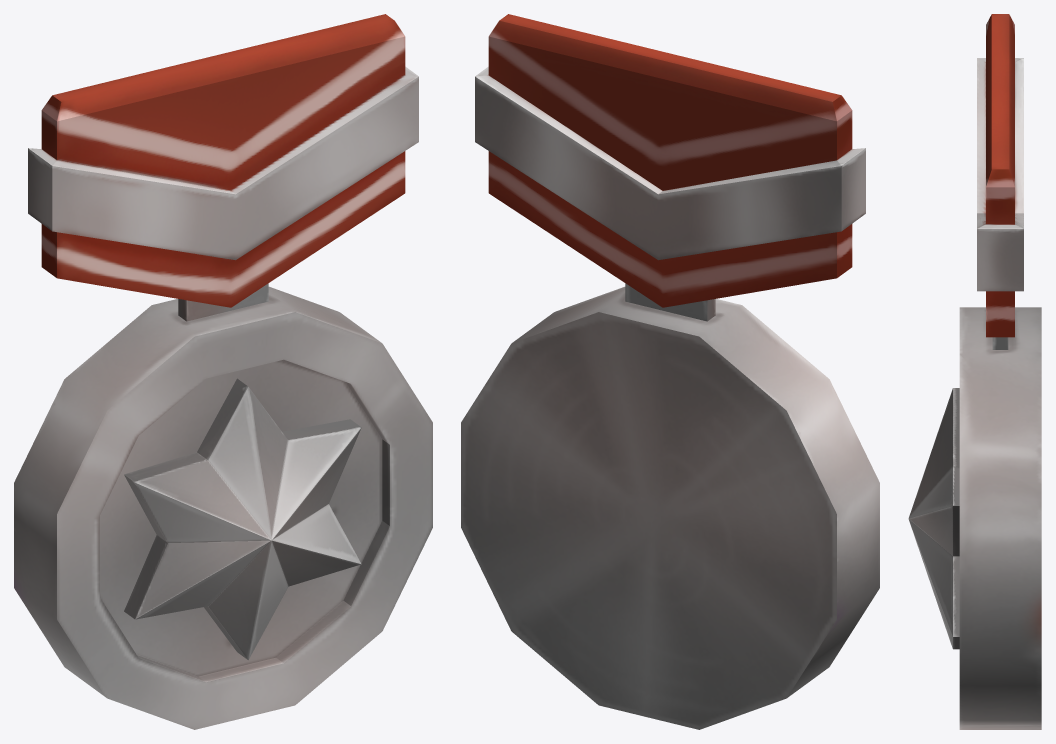
The model's file is 44_silver medal.FBX.
3 views of the same model, side by side, from view 1: azimuth 30°, elevation 25°; view 2: azimuth 150°, elevation 25°; view 3: azimuth 270°, elevation 25° (orthographic). The views are drawn at different scales.
Parts seen in each view (by area): view 1: 44_silver medal; view 2: 44_silver medal; view 3: 44_silver medal.
Boxes of the visible parts, left/top/right/bottom form: 44_silver medal: left=14, top=14, right=432, bottom=729; 44_silver medal: left=461, top=14, right=879, bottom=729; 44_silver medal: left=908, top=14, right=1041, bottom=729.
Bounding box in the file's own units: 29.51 × 48.31 × 9.47.
